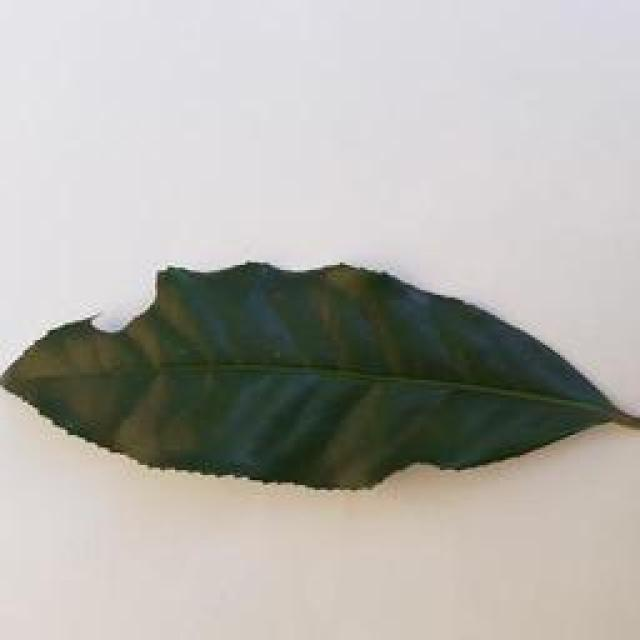Healthy: (2, 241, 640, 515)
